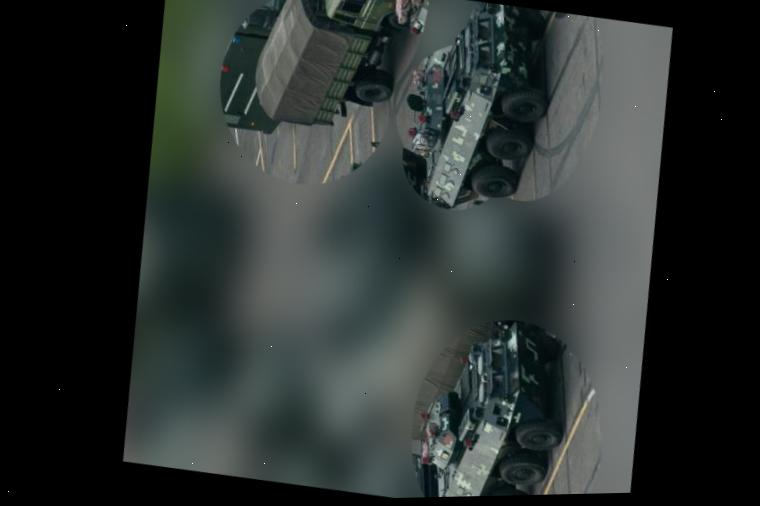armored_car: (375, 0, 575, 226), (392, 304, 583, 498)
truck: (237, 0, 430, 147)
